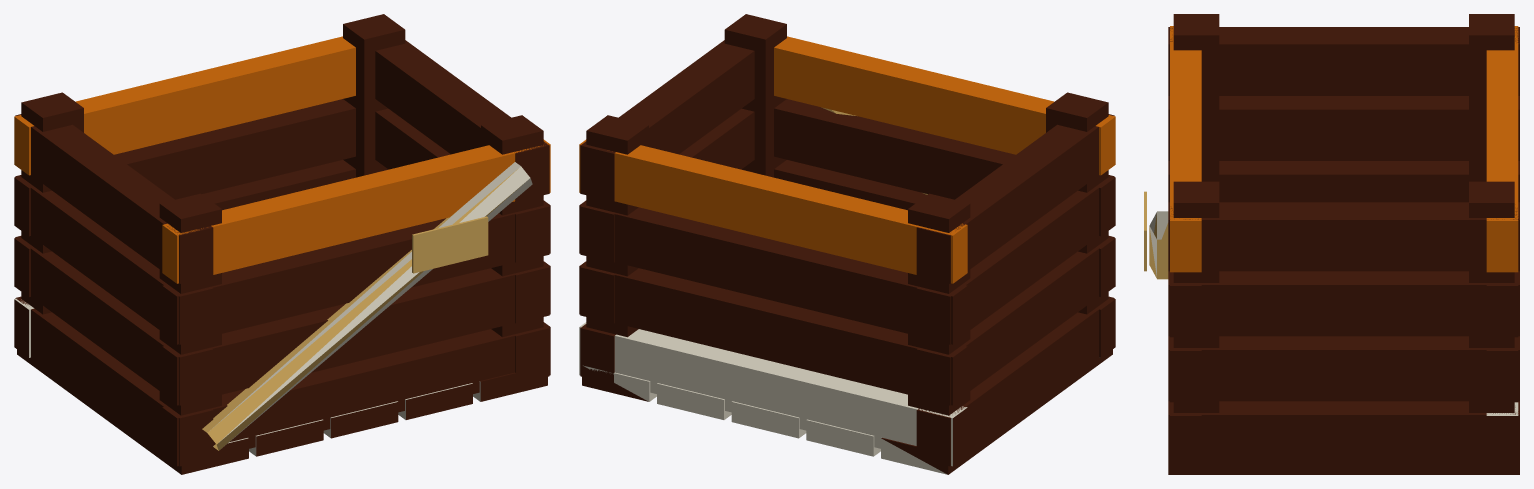
The model's file is market_crate.fbx.
3 renders of one model, left to right at view 1: azimuth 30°, elevation 25°; view 2: azimuth 150°, elevation 25°; view 3: azimuth 270°, elevation 25°, orthographic. The views are drawn at different scales.
Parts seen in each view (by area): view 1: Part_2, Part_4, Part_5, Part_3, Part_1, Part_-1, Part_0; view 2: Part_4, Part_3, Part_2, Part_5, Part_0, Part_1; view 3: Part_5, Part_4, Part_3, Part_2, Part_1, Part_-1.
Boxes of the visible parts, x1,y1,x2,y2 form: Part_2: [162, 125, 550, 466]; Part_4: [14, 92, 247, 474]; Part_5: [343, 14, 549, 385]; Part_3: [14, 28, 355, 296]; Part_1: [14, 24, 364, 188]; Part_-1: [210, 162, 532, 446]; Part_0: [14, 298, 480, 456]; Part_4: [881, 92, 1115, 474]; Part_3: [579, 139, 967, 405]; Part_2: [765, 24, 1115, 357]; Part_5: [580, 14, 786, 401]; Part_0: [579, 322, 967, 474]; Part_1: [579, 125, 967, 344]; Part_5: [1168, 181, 1519, 474]; Part_4: [1168, 14, 1519, 202]; Part_3: [1469, 26, 1518, 350]; Part_2: [1144, 26, 1201, 415]; Part_1: [1173, 35, 1518, 285]; Part_-1: [1149, 211, 1168, 276].
Bounding box in the file's own units: 2.26 × 1.47 × 1.84.
